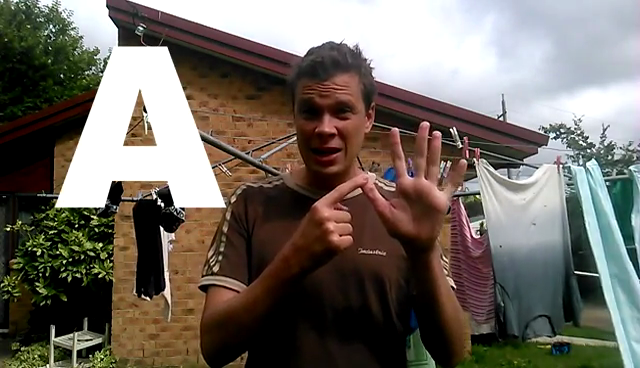A: (281, 118, 472, 268)
